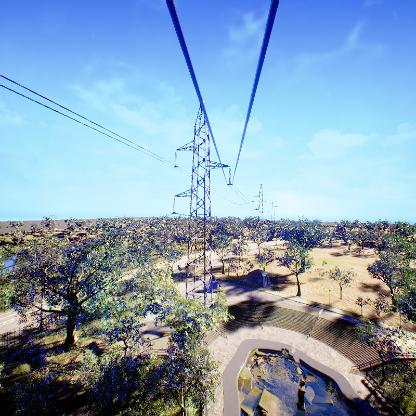tower: (170, 100, 234, 309)
